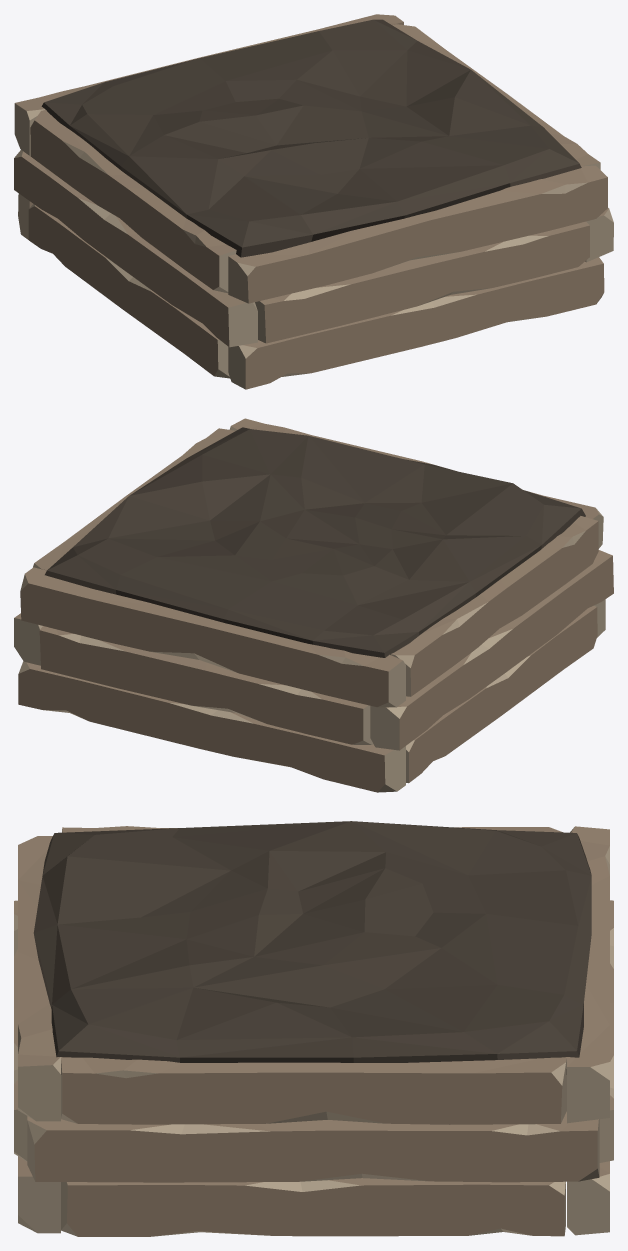
Rendered from SM_Env_Gardenbox_Single_01.fbx.
3 renders of one model, top to bottom at view 1: azimuth 30°, elevation 25°; view 2: azimuth 150°, elevation 25°; view 3: azimuth 270°, elevation 25°, orthographic. The views are drawn at different scales.
Visible parts, largest first — view 1: SM_Env_Gardenbox_Single_01; view 2: SM_Env_Gardenbox_Single_01; view 3: SM_Env_Gardenbox_Single_01.
Boxes of the visible parts, x1=… form: SM_Env_Gardenbox_Single_01: x1=14, y1=14, x2=613, y2=389; SM_Env_Gardenbox_Single_01: x1=14, y1=418, x2=613, y2=792; SM_Env_Gardenbox_Single_01: x1=14, y1=821, x2=613, y2=1236.
Bounding box in the file's own units: 205 × 74.86 × 209.
